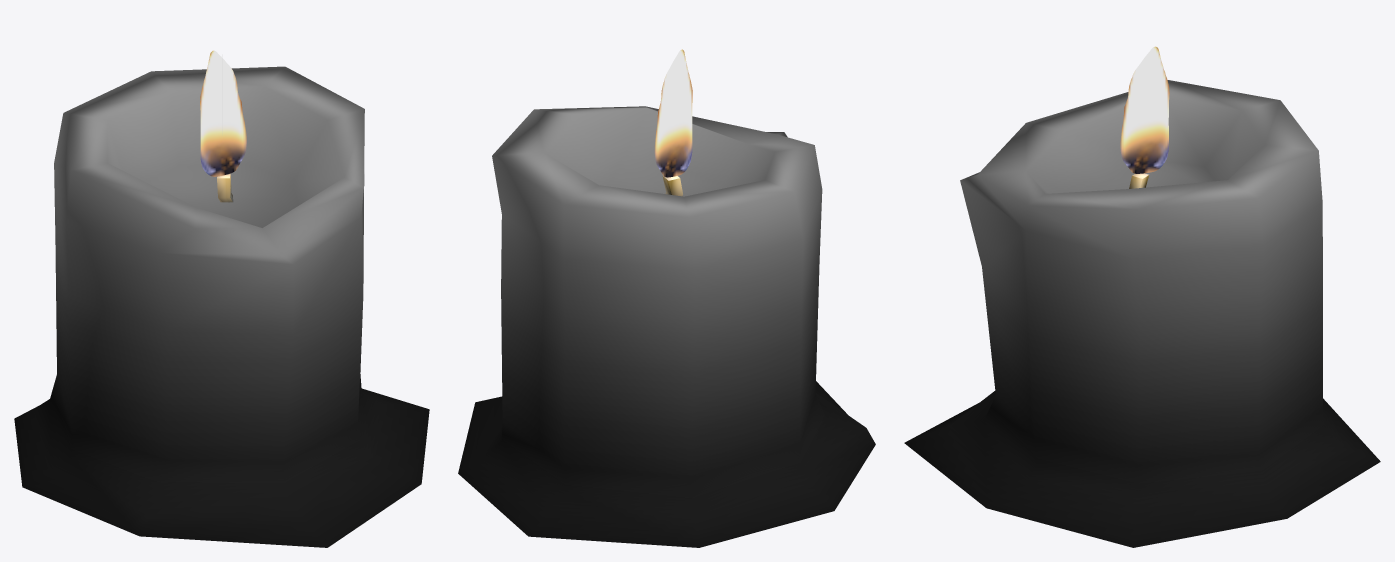
The model's file is CandleShapeC.006.glb.
3 views of the same model, side by side, from view 1: azimuth 30°, elevation 25°; view 2: azimuth 150°, elevation 25°; view 3: azimuth 270°, elevation 25° (orthographic).
Visible parts, largest first — view 1: CandleShapeC.006; view 2: CandleShapeC.006; view 3: CandleShapeC.006.
Boxes of the visible parts, left/top/right/bottom form: CandleShapeC.006: left=14, top=50, right=429, bottom=547; CandleShapeC.006: left=458, top=49, right=875, bottom=547; CandleShapeC.006: left=904, top=46, right=1380, bottom=547.
Bounding box in the file's own units: 0.1734 × 0.1799 × 0.1889.
Materials: 2 (2 with a texture image).
